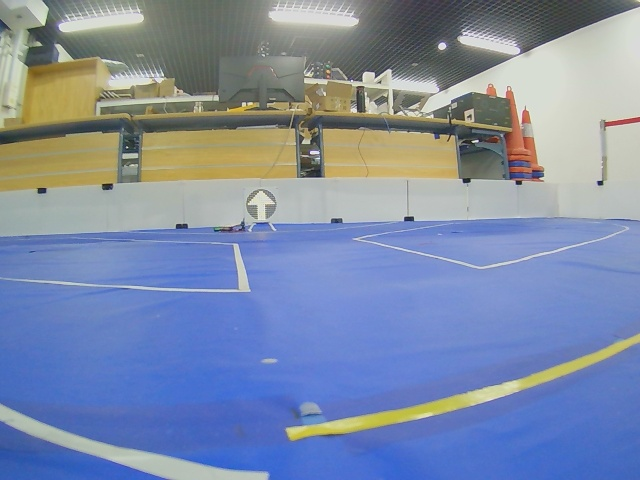straight_yellow: (246, 189, 277, 221)
